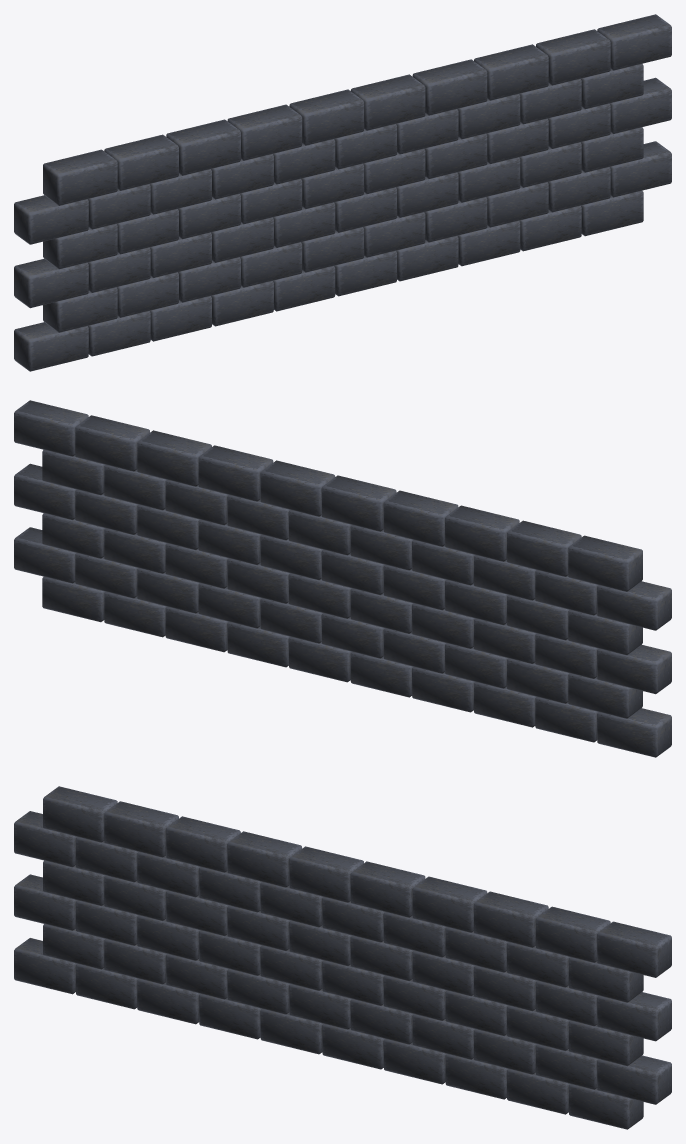
File: SM_Wall_9M.fbx
3 views of the same model, one above another, from view 1: azimuth 30°, elevation 25°; view 2: azimuth 150°, elevation 25°; view 3: azimuth 330°, elevation 25° (orthographic).
Visible parts, largest first — view 1: Cube.003; view 2: Cube.003; view 3: Cube.003.
Boxes of the visible parts, x1,y1,x2,y2 form: Cube.003: (14,14,671,371); Cube.003: (14,400,671,757); Cube.003: (14,786,671,1129).
Bounding box in the file's own units: 1114 × 315 × 50.55.
